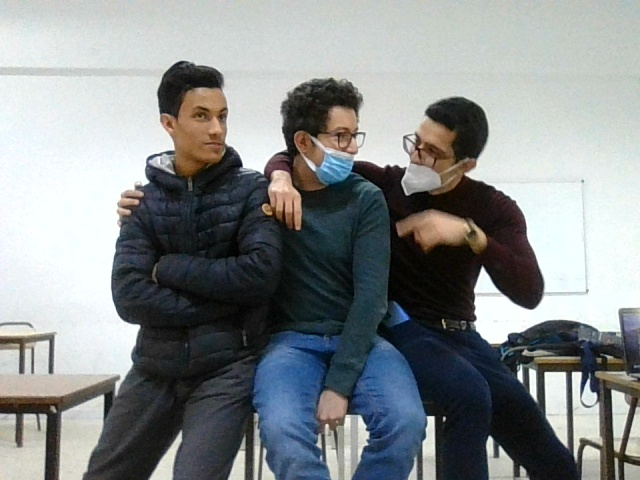mask_weared_incorrect: (391, 89, 492, 196), (281, 80, 369, 187)
without_mask: (157, 61, 241, 170)
